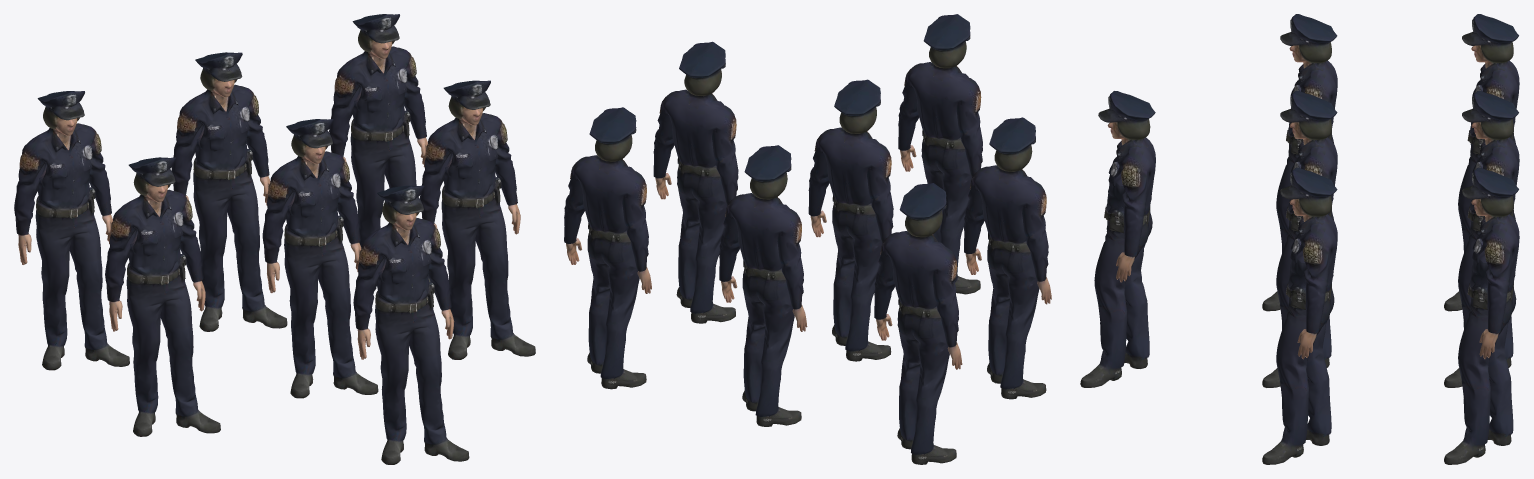
The model's file is parade_usa_idle.glb.
The picture shows the model from 3 angles, left to right: view 1: azimuth 30°, elevation 25°; view 2: azimuth 150°, elevation 25°; view 3: azimuth 270°, elevation 25°; orthographic projection.
Visible parts, largest first — view 1: tripo_node_f0e8774b-4e28-4a62-98a9-9e8da42cc3b5.003, tripo_node_f0e8774b-4e28-4a62-98a9-9e8da42cc3b5, tripo_node_f0e8774b-4e28-4a62-98a9-9e8da42cc3b5.006, tripo_node_f0e8774b-4e28-4a62-98a9-9e8da42cc3b5.001, tripo_node_f0e8774b-4e28-4a62-98a9-9e8da42cc3b5.002, tripo_node_f0e8774b-4e28-4a62-98a9-9e8da42cc3b5.004, tripo_node_f0e8774b-4e28-4a62-98a9-9e8da42cc3b5.005; view 2: tripo_node_f0e8774b-4e28-4a62-98a9-9e8da42cc3b5.003, tripo_node_f0e8774b-4e28-4a62-98a9-9e8da42cc3b5.005, tripo_node_f0e8774b-4e28-4a62-98a9-9e8da42cc3b5.006, tripo_node_f0e8774b-4e28-4a62-98a9-9e8da42cc3b5.004, tripo_node_f0e8774b-4e28-4a62-98a9-9e8da42cc3b5.002, tripo_node_f0e8774b-4e28-4a62-98a9-9e8da42cc3b5.001, tripo_node_f0e8774b-4e28-4a62-98a9-9e8da42cc3b5; view 3: tripo_node_f0e8774b-4e28-4a62-98a9-9e8da42cc3b5.005, tripo_node_f0e8774b-4e28-4a62-98a9-9e8da42cc3b5.002, tripo_node_f0e8774b-4e28-4a62-98a9-9e8da42cc3b5, tripo_node_f0e8774b-4e28-4a62-98a9-9e8da42cc3b5.004, tripo_node_f0e8774b-4e28-4a62-98a9-9e8da42cc3b5.001, tripo_node_f0e8774b-4e28-4a62-98a9-9e8da42cc3b5.006, tripo_node_f0e8774b-4e28-4a62-98a9-9e8da42cc3b5.003.
Boxes of the visible parts, x1,y1,x2,y2 form: tripo_node_f0e8774b-4e28-4a62-98a9-9e8da42cc3b5.003: (105,157,220,436); tripo_node_f0e8774b-4e28-4a62-98a9-9e8da42cc3b5: (353,185,469,464); tripo_node_f0e8774b-4e28-4a62-98a9-9e8da42cc3b5.006: (14,91,129,370); tripo_node_f0e8774b-4e28-4a62-98a9-9e8da42cc3b5.001: (262,119,378,398); tripo_node_f0e8774b-4e28-4a62-98a9-9e8da42cc3b5.002: (420,80,535,359); tripo_node_f0e8774b-4e28-4a62-98a9-9e8da42cc3b5.004: (171,52,287,331); tripo_node_f0e8774b-4e28-4a62-98a9-9e8da42cc3b5.005: (329,14,430,290); tripo_node_f0e8774b-4e28-4a62-98a9-9e8da42cc3b5.003: (964,117,1051,399); tripo_node_f0e8774b-4e28-4a62-98a9-9e8da42cc3b5.005: (564,107,651,389); tripo_node_f0e8774b-4e28-4a62-98a9-9e8da42cc3b5.006: (874,183,962,464); tripo_node_f0e8774b-4e28-4a62-98a9-9e8da42cc3b5.004: (719,145,807,426); tripo_node_f0e8774b-4e28-4a62-98a9-9e8da42cc3b5.002: (653,41,738,323); tripo_node_f0e8774b-4e28-4a62-98a9-9e8da42cc3b5.001: (808,79,893,361); tripo_node_f0e8774b-4e28-4a62-98a9-9e8da42cc3b5: (898,14,982,294); tripo_node_f0e8774b-4e28-4a62-98a9-9e8da42cc3b5.005: (1444,167,1519,464); tripo_node_f0e8774b-4e28-4a62-98a9-9e8da42cc3b5.002: (1262,167,1337,464); tripo_node_f0e8774b-4e28-4a62-98a9-9e8da42cc3b5: (1080,91,1155,387); tripo_node_f0e8774b-4e28-4a62-98a9-9e8da42cc3b5.004: (1444,91,1519,387); tripo_node_f0e8774b-4e28-4a62-98a9-9e8da42cc3b5.001: (1262,91,1337,387); tripo_node_f0e8774b-4e28-4a62-98a9-9e8da42cc3b5.006: (1444,14,1519,311); tripo_node_f0e8774b-4e28-4a62-98a9-9e8da42cc3b5.003: (1262,14,1337,311).
Bounding box in the file's own units: 1.54 × 0.9962 × 1.45.
Materials: 1 (1 with a texture image).
